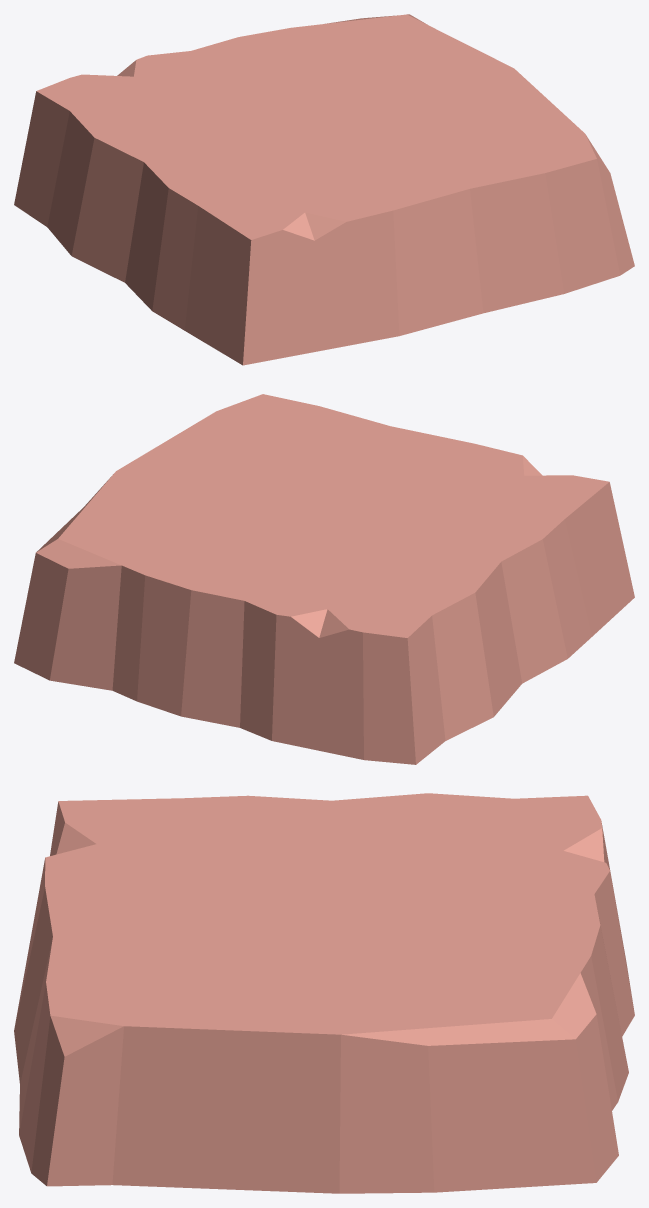
Rendered from SuperGrid_Cube11.fbx.
3 views of the same model, one above another, from view 1: azimuth 30°, elevation 25°; view 2: azimuth 150°, elevation 25°; view 3: azimuth 270°, elevation 25° (orthographic). The views are drawn at different scales.
Parts seen in each view (by area): view 1: SuperGrid_Cube11; view 2: SuperGrid_Cube11; view 3: SuperGrid_Cube11.
Boxes of the visible parts, left/top/right/bottom form: SuperGrid_Cube11: left=14, top=14, right=634, bottom=365; SuperGrid_Cube11: left=14, top=394, right=634, bottom=764; SuperGrid_Cube11: left=14, top=793, right=634, bottom=1193.
Size of the model in its own units: 385 by 100 by 380.
